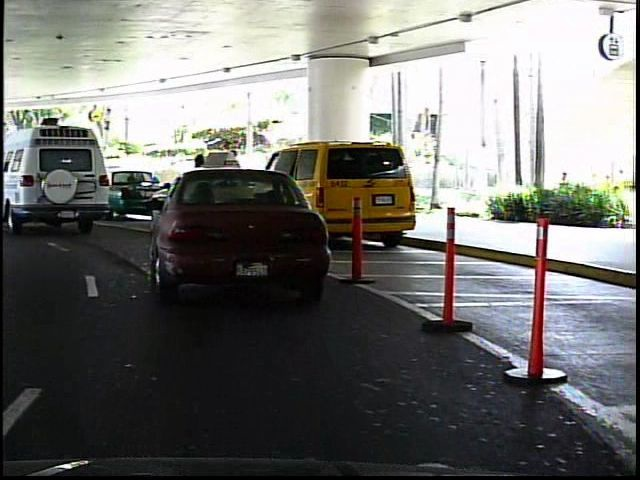person: (222, 145, 247, 211), (186, 147, 211, 212), (62, 153, 84, 198), (5, 158, 23, 198)
